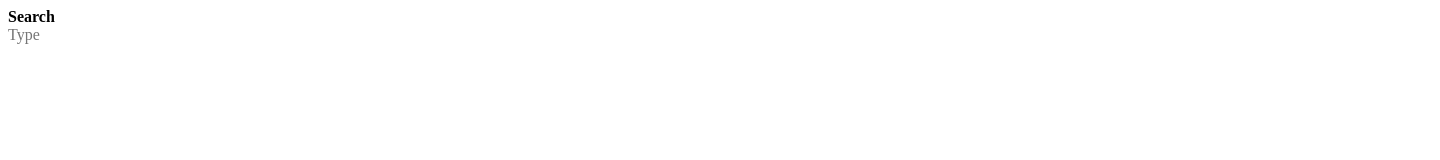
Test: PlaceSearch › picks an online area with its name and position
Type "kilim" into the dropdown labelled "Search" at (720, 35), box [8,26,1432,44]
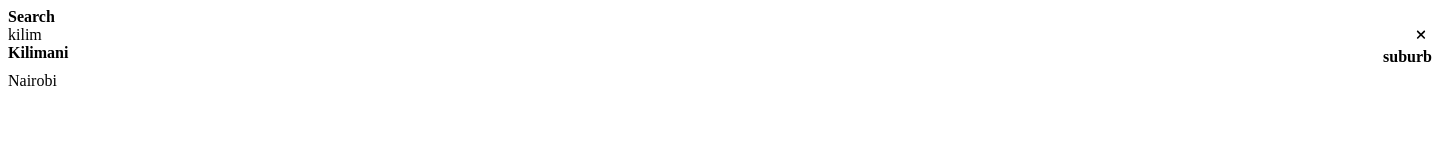
Click the option "Kilimani suburb Nairobi" at (38, 52), box [8,44,1432,90]
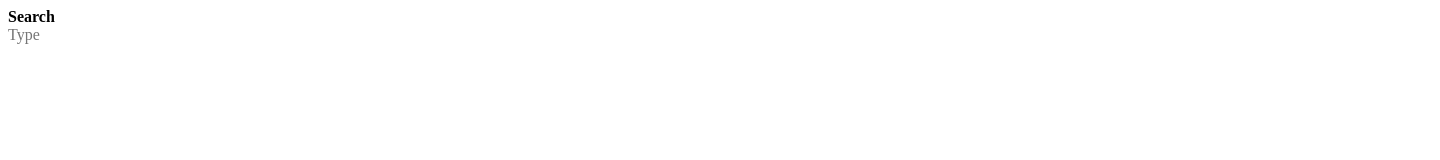
Check: the dropdown labelled "Search" is empty, box [8,26,1432,44]
